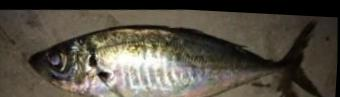fish: (28, 16, 322, 97)
